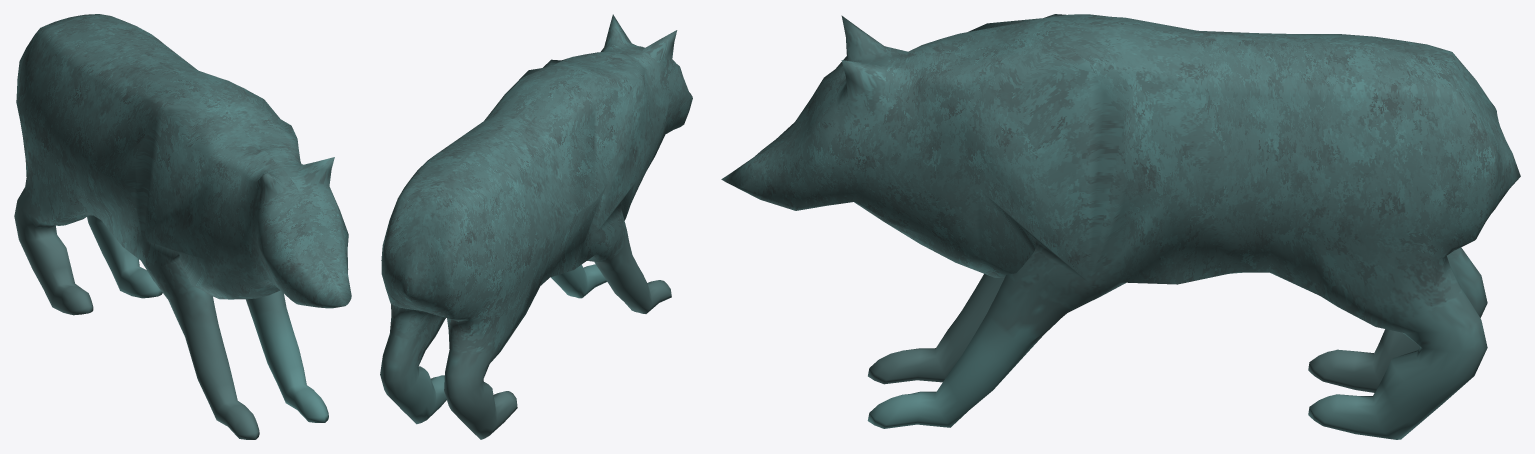
File: piesblend_000034.obj
3 renders of one model, left to right at view 1: azimuth 30°, elevation 25°; view 2: azimuth 150°, elevation 25°; view 3: azimuth 270°, elevation 25°, orthographic. The views are drawn at different scales.
Visible parts, largest first — view 1: Cube; view 2: Cube; view 3: Cube.
Boxes of the visible parts, x1,y1,x2,y2 form: Cube: [14, 14, 351, 439]; Cube: [380, 14, 692, 439]; Cube: [721, 14, 1520, 439].
Size of the model in its own units: 2.55 by 5.11 by 9.49.
Materials: 1 (1 with a texture image).
